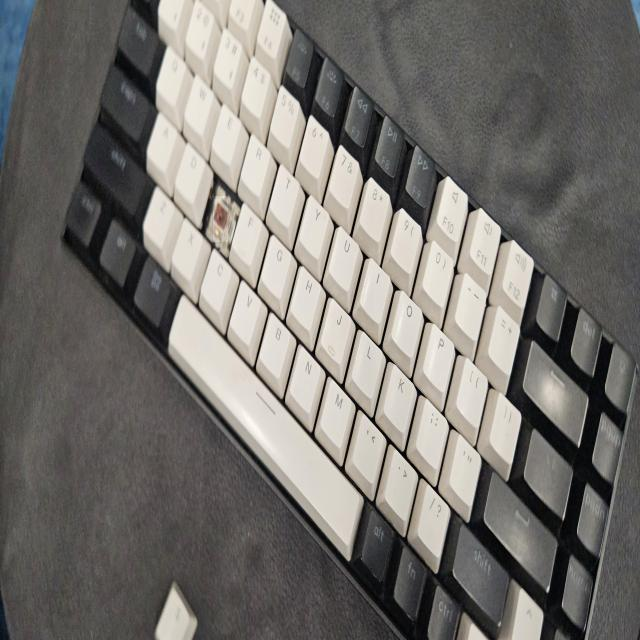C: (213, 196, 228, 242)
